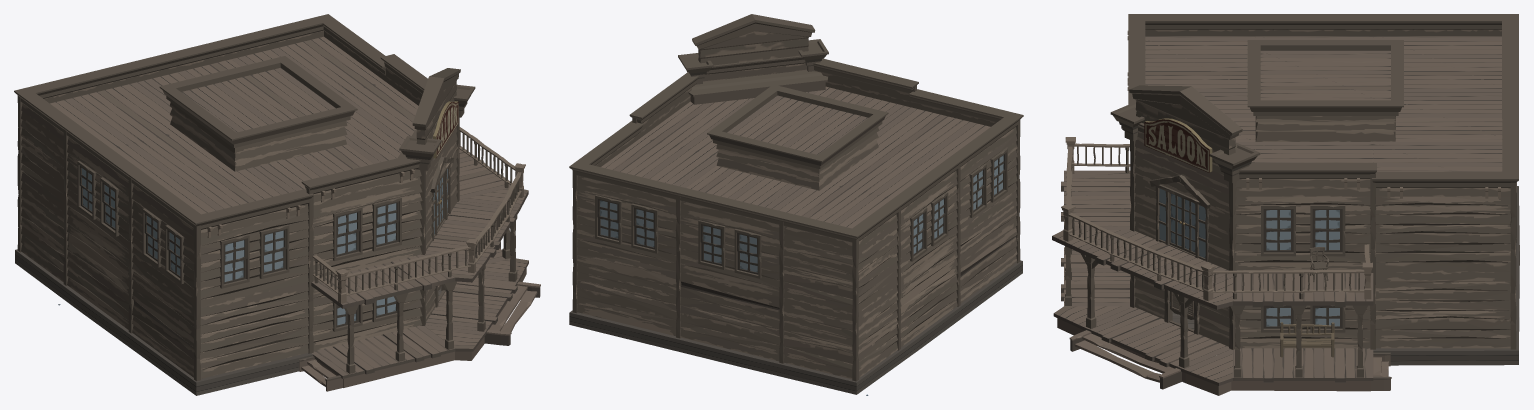
The model's file is maison.obj.
3 views of the same model, side by side, from view 1: azimuth 30°, elevation 25°; view 2: azimuth 150°, elevation 25°; view 3: azimuth 270°, elevation 25° (orthographic). The views are drawn at different scales.
Visible parts, largest first — view 1: SM_Bld_Saloon_01_27_SM_Bld_Saloon_01, SM_Bld_Saloon_Glass_30_SM_Bld_Saloon_Glass, SM_Bld_Sign_01_503_SM_Bld_Sign_01; view 2: SM_Bld_Saloon_01_27_SM_Bld_Saloon_01, SM_Bld_Saloon_Glass_30_SM_Bld_Saloon_Glass; view 3: SM_Bld_Saloon_01_27_SM_Bld_Saloon_01, SM_Bld_Saloon_Glass_30_SM_Bld_Saloon_Glass, SM_Bld_Sign_01_503_SM_Bld_Sign_01, SM_Prop_Bench_01_308_SM_Prop_Bench_01, SM_Bld_Door_02_Glass2_SM_Bld_Door_02_Glass, SM_Bld_Door_02_175_SM_Bld_Door_02, SM_Bld_Door_02_Glass_178_SM_Bld_Door_02_Glass.
Boxes of the visible parts, x1,y1,x2,y2 form: SM_Bld_Saloon_01_27_SM_Bld_Saloon_01: (14, 14, 540, 395); SM_Bld_Saloon_Glass_30_SM_Bld_Saloon_Glass: (82, 168, 447, 325); SM_Bld_Sign_01_503_SM_Bld_Sign_01: (433, 101, 458, 158); SM_Bld_Saloon_01_27_SM_Bld_Saloon_01: (569, 14, 1023, 394); SM_Bld_Saloon_Glass_30_SM_Bld_Saloon_Glass: (600, 155, 1003, 272); SM_Bld_Saloon_01_27_SM_Bld_Saloon_01: (1052, 14, 1519, 395); SM_Bld_Saloon_Glass_30_SM_Bld_Saloon_Glass: (1159, 189, 1339, 326); SM_Bld_Sign_01_503_SM_Bld_Sign_01: (1144, 118, 1212, 172); SM_Prop_Bench_01_308_SM_Prop_Bench_01: (1280, 322, 1334, 357); SM_Bld_Door_02_Glass2_SM_Bld_Door_02_Glass: (1184, 199, 1195, 252); SM_Bld_Door_02_175_SM_Bld_Door_02: (1169, 193, 1182, 249); SM_Bld_Door_02_Glass_178_SM_Bld_Door_02_Glass: (1171, 193, 1181, 246).
Bounding box in the file's own units: 16.66 × 10.98 × 16.68.
3 materials, 3 textured.
